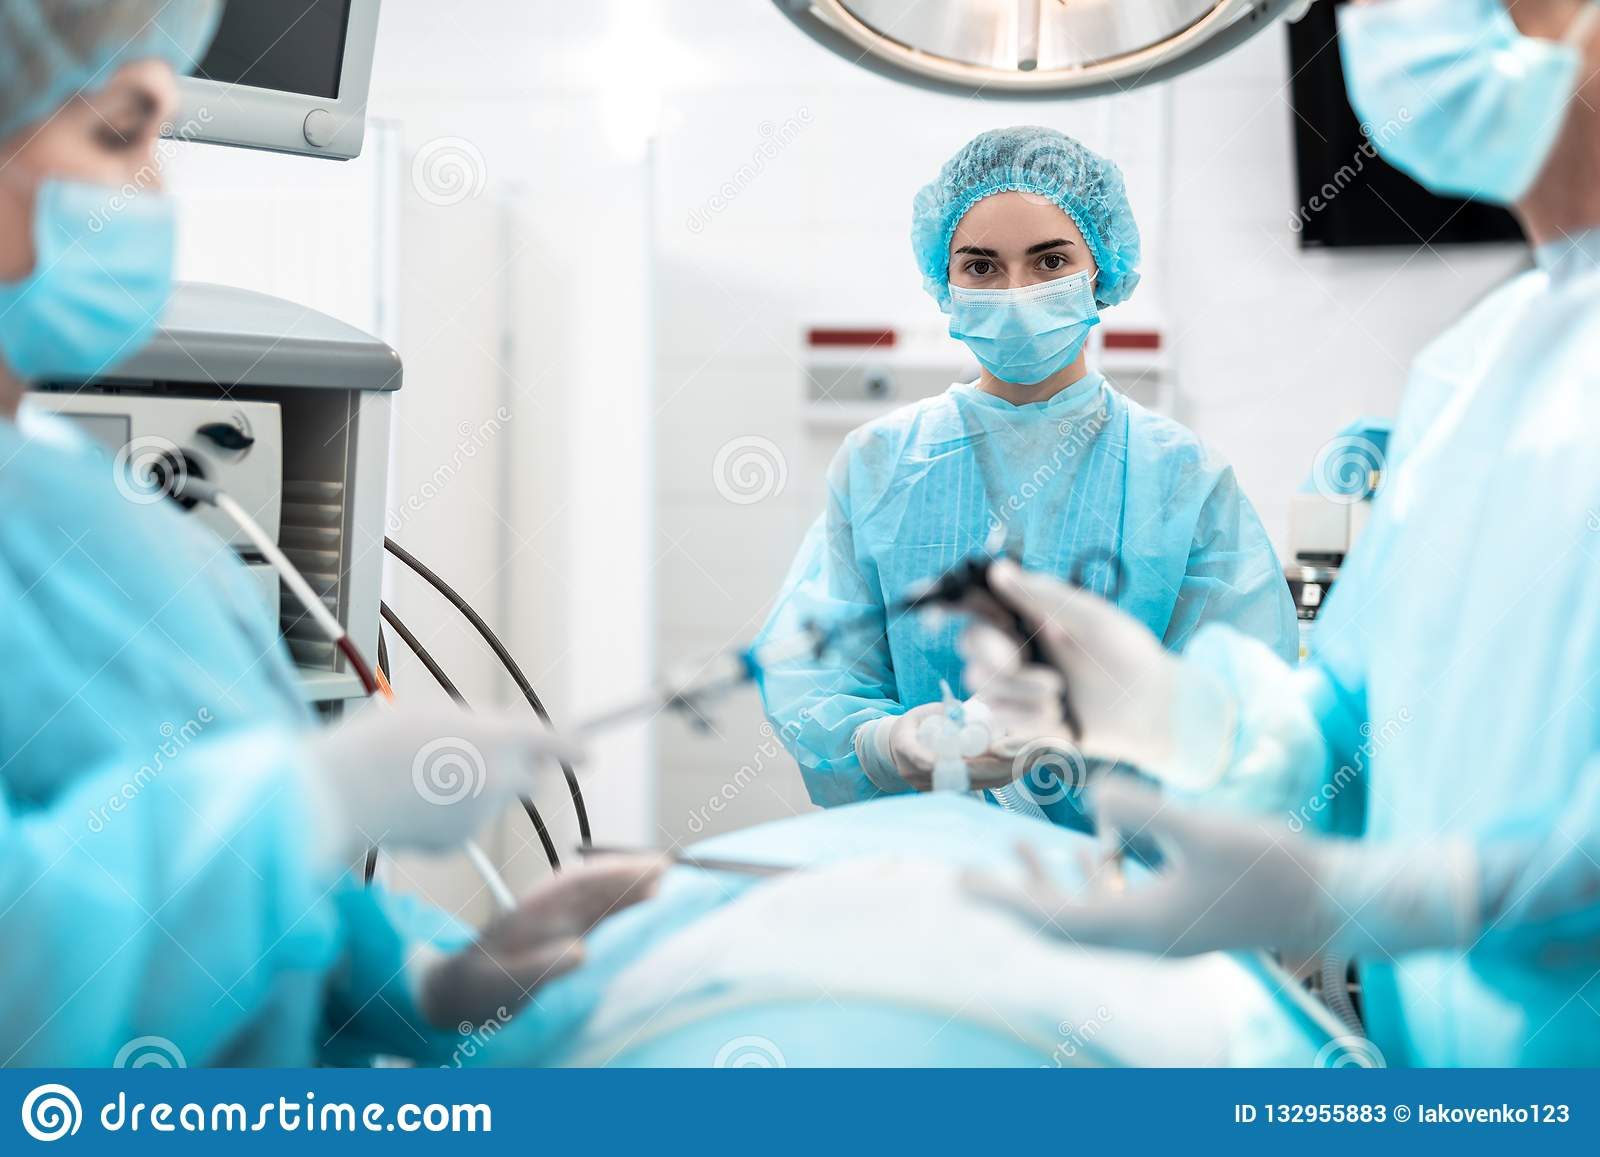mask: (930, 275, 1096, 380)
